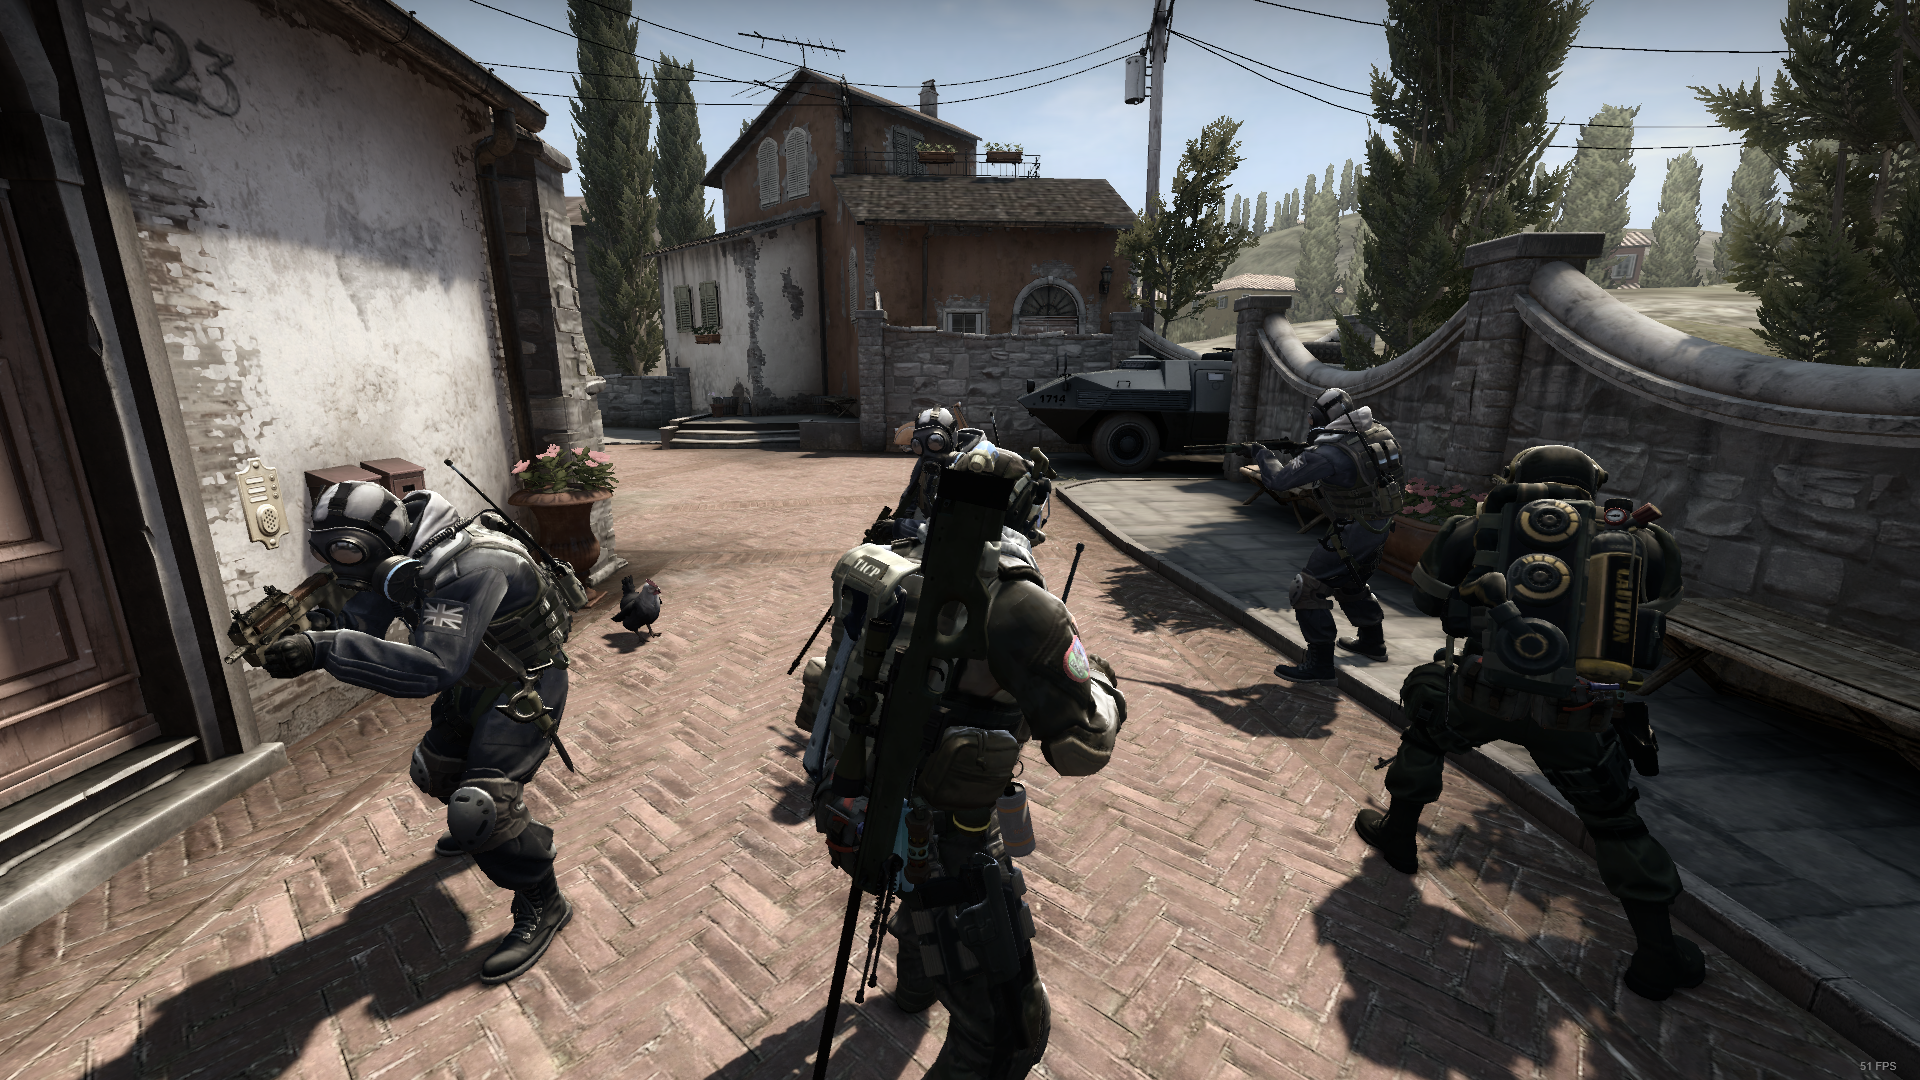ct: (261, 479, 578, 978), (1237, 388, 1404, 683), (887, 405, 956, 531)
